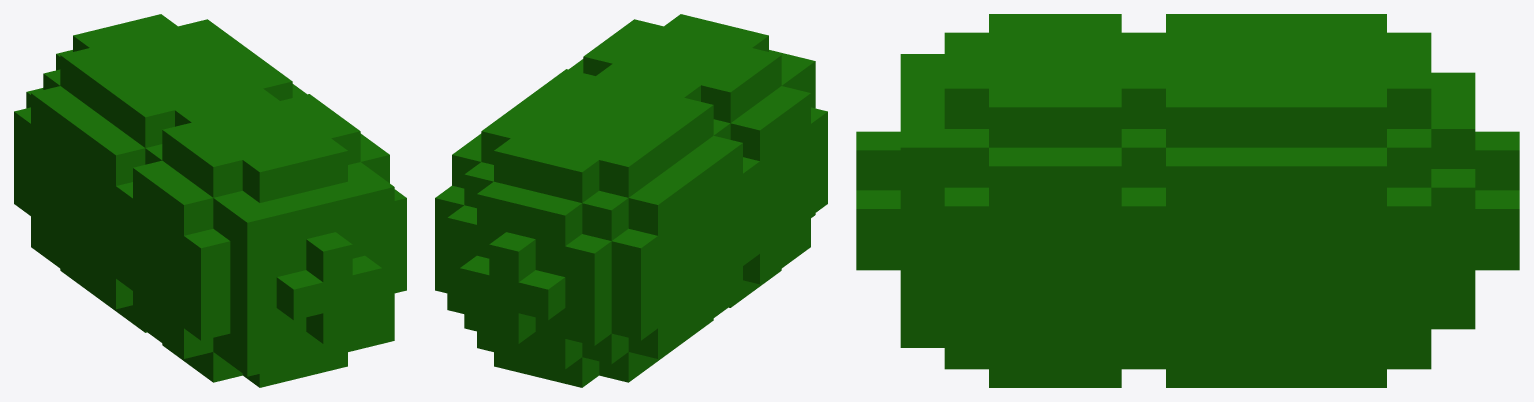
File: buisson1 (1).fbx
3 views of the same model, side by side, from view 1: azimuth 30°, elevation 25°; view 2: azimuth 150°, elevation 25°; view 3: azimuth 270°, elevation 25° (orthographic). The views are drawn at different scales.
Visible parts, largest first — view 1: Sphere.013; view 2: Sphere.013; view 3: Sphere.013.
Boxes of the visible parts, left/top/right/bottom form: Sphere.013: left=14, top=14, right=406, bottom=387; Sphere.013: left=435, top=14, right=827, bottom=387; Sphere.013: left=856, top=14, right=1519, bottom=387.
Bounding box in the file's own units: 183 × 183 × 392.
